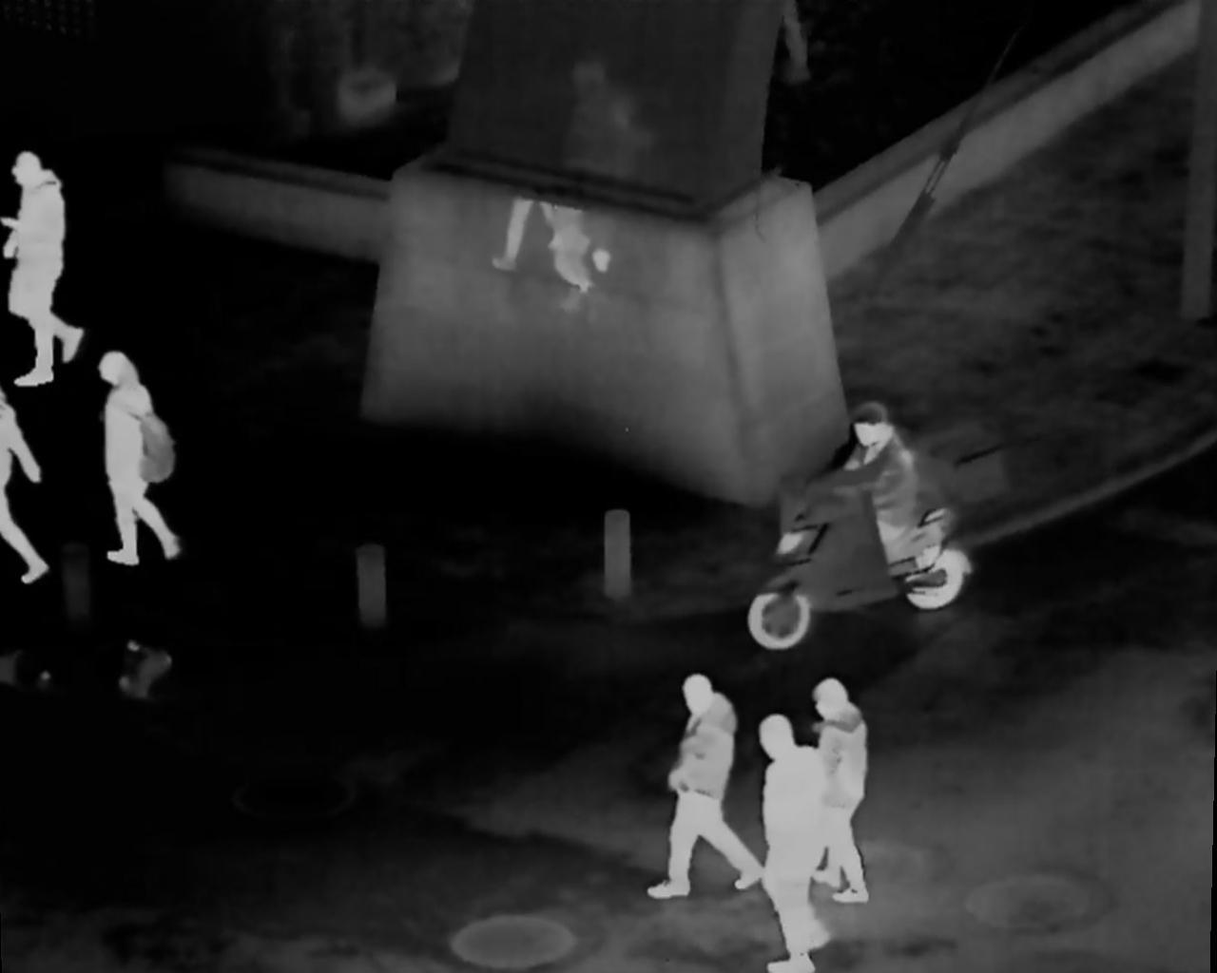person: (645, 675, 759, 904), (757, 714, 840, 965), (6, 151, 87, 386), (837, 403, 924, 614), (97, 352, 178, 568), (809, 677, 870, 904)
